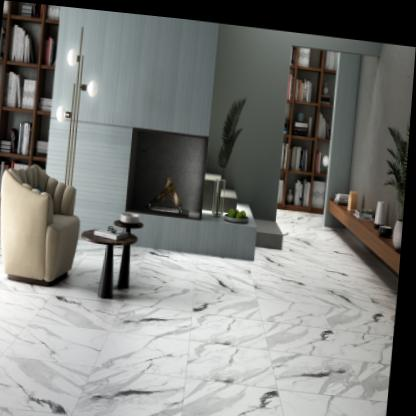Ceramic floor: (67, 240, 400, 416), (0, 279, 398, 416)
Chair: (2, 163, 83, 285)
Lamp: (54, 20, 104, 188)
Shelf: (0, 0, 60, 208), (279, 40, 341, 208)
Wall Panel: (47, 5, 219, 195)
